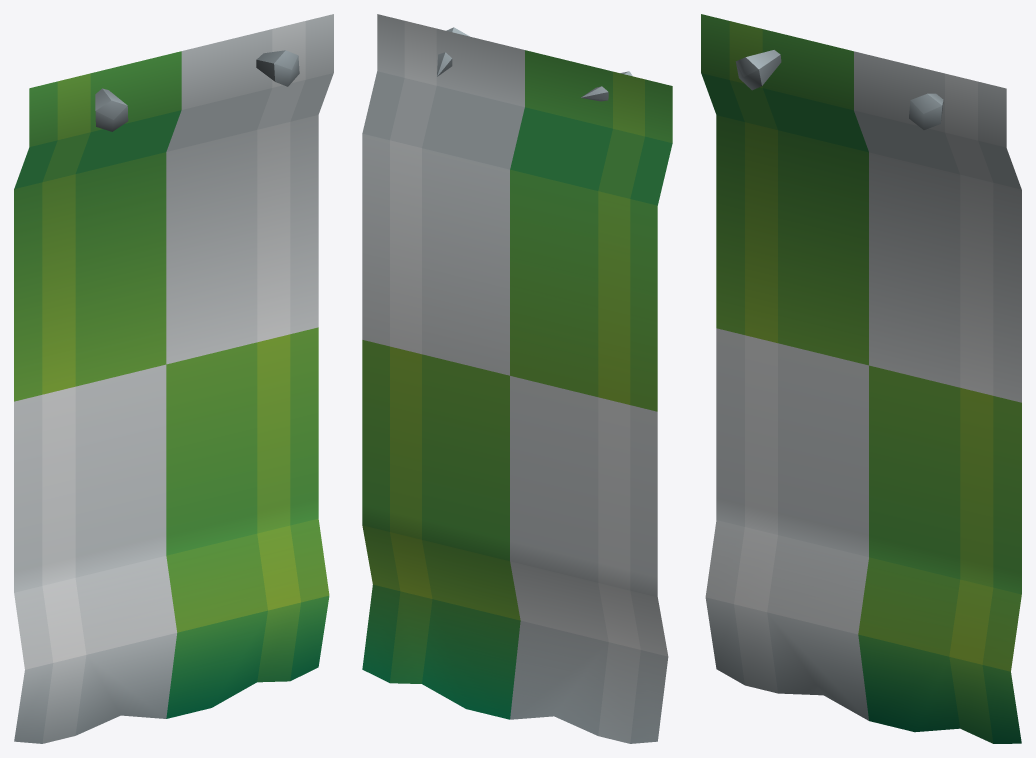
Rendered from banner_patternA_green.glb.
3 renders of one model, left to right at view 1: azimuth 30°, elevation 25°; view 2: azimuth 150°, elevation 25°; view 3: azimuth 330°, elevation 25°, orthographic. The views are drawn at different scales.
Visible parts, largest first — view 1: banner_patternA_green; view 2: banner_patternA_green; view 3: banner_patternA_green.
Boxes of the visible parts, box(x1,y1,x2,y2) form: banner_patternA_green: box(14, 14, 333, 743); banner_patternA_green: box(362, 14, 672, 743); banner_patternA_green: box(701, 14, 1021, 743).
Bounding box in the file's own units: 1.5 × 3.2 × 0.3117.
Materials: 1 (1 with a texture image).
